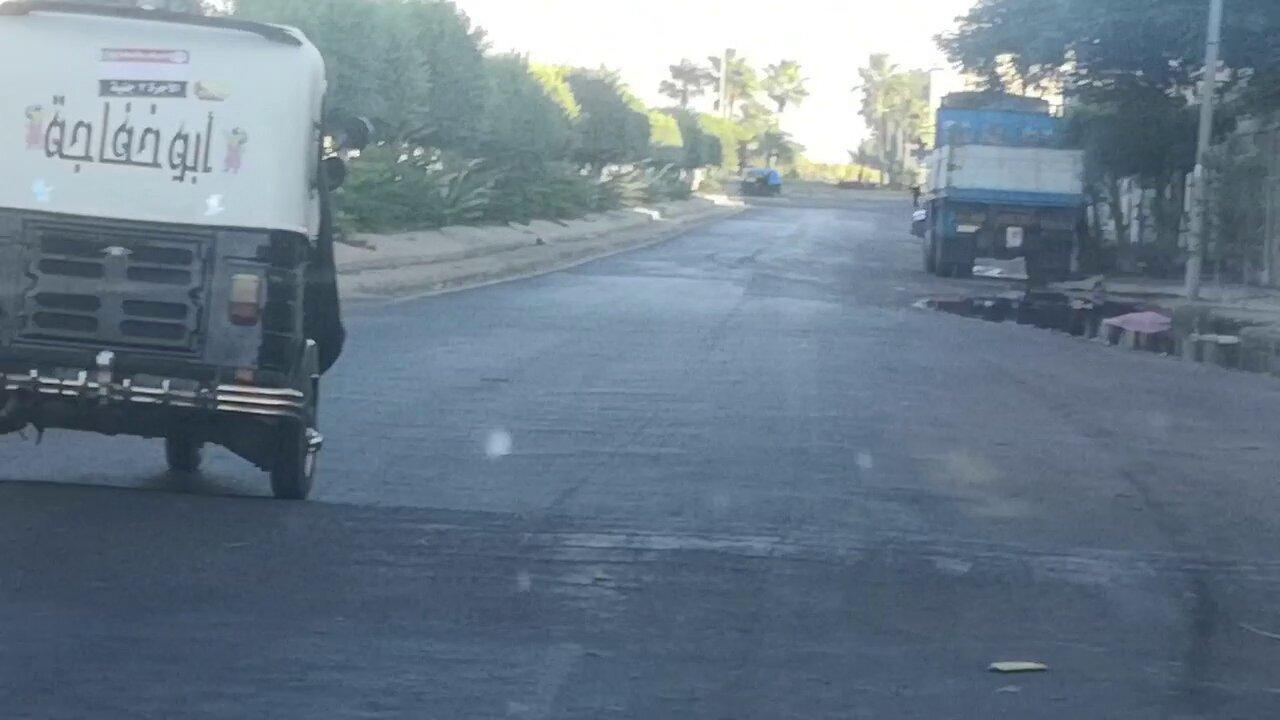Bump: (0, 475, 1280, 702)
